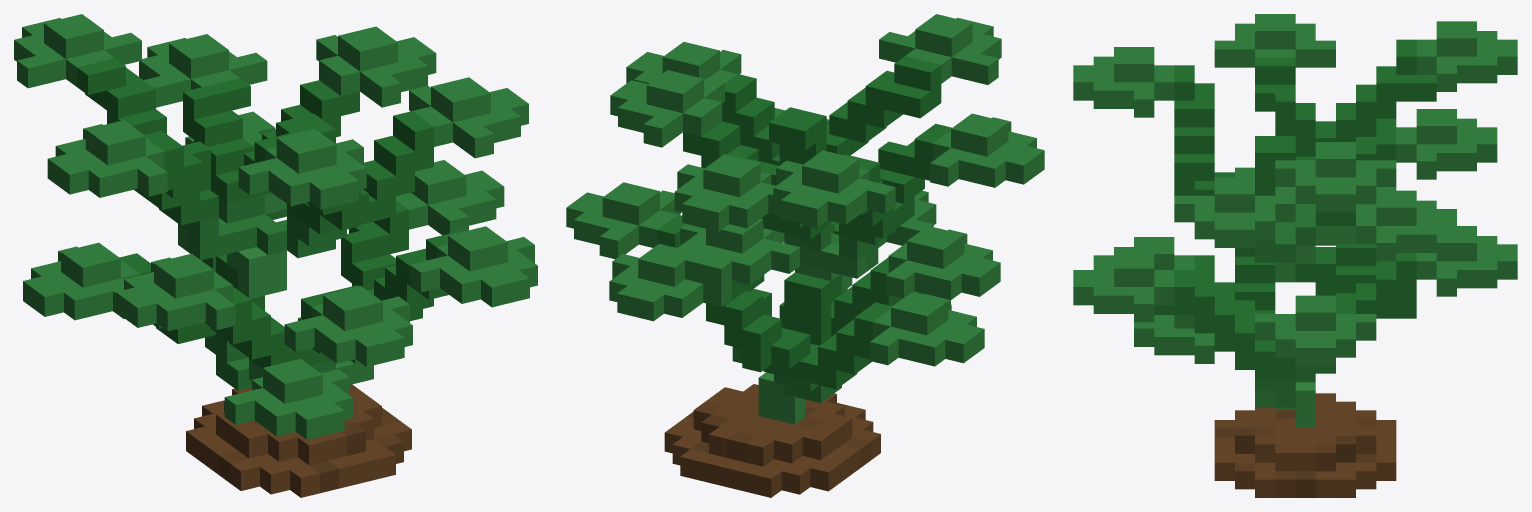
The model's file is Herbácea - Feijão de porco jovem.obj.
The picture shows the model from 3 angles, left to right: view 1: azimuth 30°, elevation 25°; view 2: azimuth 150°, elevation 25°; view 3: azimuth 270°, elevation 25°; orthographic projection. The views are drawn at different scales.
Bounding box in the file's own units: 2.4 × 2 × 2.2.
1 material, 1 textured.
